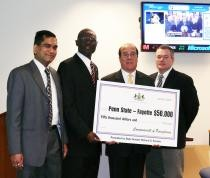Person: (6, 29, 69, 178), (100, 42, 157, 178), (145, 45, 200, 178), (57, 27, 103, 178)
